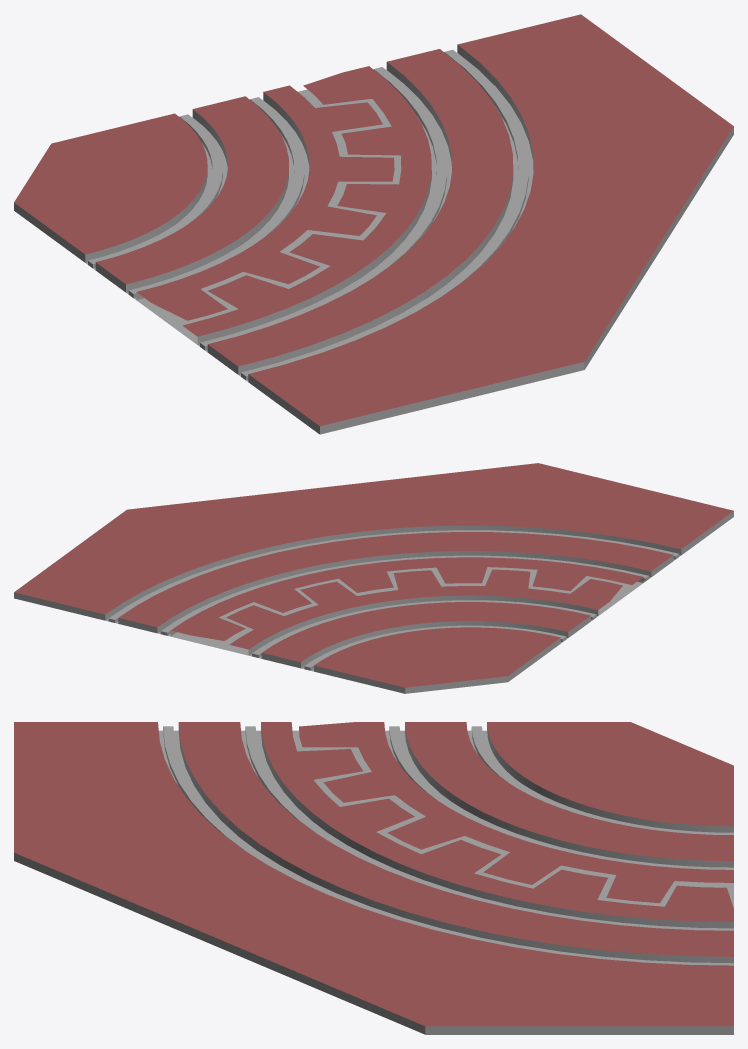
File: rightcorner2.fbx
The picture shows the model from 3 angles, top to bottom: view 1: azimuth 30°, elevation 25°; view 2: azimuth 150°, elevation 25°; view 3: azimuth 270°, elevation 25°; orthographic projection. The views are drawn at different scales.
Parts seen in each view (by area): view 1: RightCorner2; view 2: RightCorner2; view 3: RightCorner2.
Part boxes in pixels (x1=…): RightCorner2: x1=14, y1=14, x2=733, y2=434; RightCorner2: x1=14, y1=463, x2=733, y2=693; RightCorner2: x1=14, y1=722, x2=733, y2=1034.
Bounding box in the file's own units: 700 × 9 × 700.
